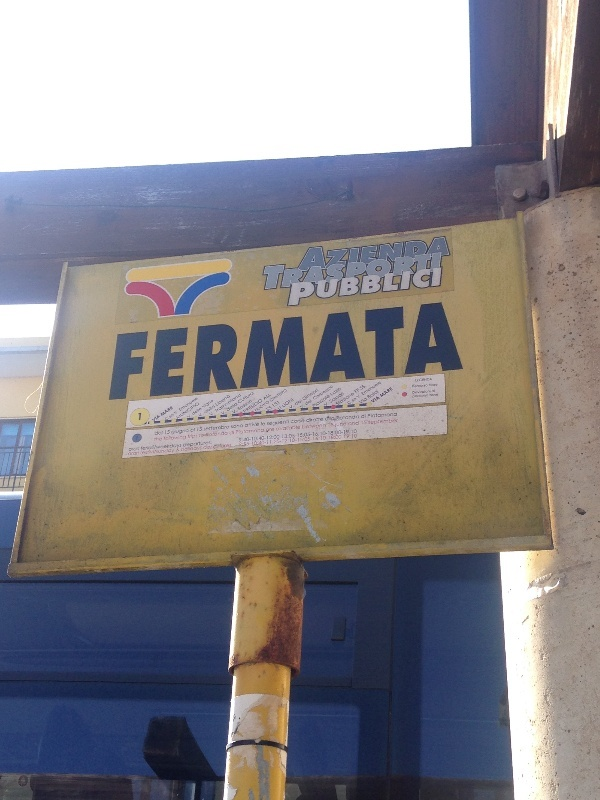text: (129, 305, 144, 402), (145, 305, 160, 402), (161, 305, 176, 402), (177, 305, 192, 402), (193, 305, 208, 402), (209, 305, 224, 402), (225, 305, 240, 402), (241, 305, 256, 402), (257, 305, 272, 402), (273, 305, 288, 402), (289, 305, 304, 402), (305, 305, 320, 402), (321, 305, 336, 402), (337, 305, 352, 402), (353, 305, 368, 402), (369, 305, 384, 402), (385, 305, 400, 402), (401, 305, 416, 402), (417, 305, 432, 402), (433, 305, 448, 402), (449, 305, 464, 402), (117, 305, 128, 402), (305, 266, 320, 309), (321, 266, 336, 309), (337, 266, 352, 309), (353, 266, 368, 309), (369, 266, 384, 309), (385, 266, 400, 309), (401, 266, 416, 309), (417, 266, 432, 309), (290, 266, 304, 309), (177, 381, 192, 420), (193, 381, 208, 420), (209, 381, 224, 420), (225, 381, 240, 420), (241, 381, 256, 420), (257, 381, 272, 420), (273, 381, 288, 420), (289, 381, 304, 420), (305, 381, 320, 420), (321, 381, 336, 420), (337, 381, 352, 420), (353, 381, 368, 420), (369, 381, 384, 420), (385, 381, 400, 420), (273, 254, 288, 291), (289, 254, 304, 291), (305, 254, 320, 291), (321, 254, 336, 291), (337, 254, 352, 291), (353, 254, 368, 291), (369, 254, 384, 291), (385, 254, 400, 291), (401, 254, 416, 291), (417, 254, 432, 291), (321, 238, 336, 272), (337, 238, 352, 272), (353, 238, 368, 272), (369, 238, 384, 272), (385, 238, 400, 272), (401, 238, 416, 272), (417, 238, 432, 272), (433, 238, 448, 272), (161, 413, 176, 443), (177, 413, 192, 443), (193, 413, 208, 443), (209, 413, 224, 443), (225, 413, 240, 443), (241, 413, 256, 443), (257, 413, 272, 443), (273, 413, 288, 443), (289, 413, 304, 443), (305, 413, 320, 443), (321, 413, 336, 443), (337, 413, 352, 443), (353, 413, 368, 443), (369, 413, 384, 443), (433, 266, 443, 309), (129, 429, 144, 457), (145, 429, 160, 457), (161, 429, 176, 457), (177, 429, 192, 457), (193, 429, 208, 457), (209, 429, 224, 457), (225, 429, 240, 457), (241, 429, 256, 457), (257, 429, 272, 457), (273, 429, 288, 457), (289, 429, 304, 457), (305, 429, 320, 457), (321, 429, 336, 457), (337, 429, 352, 457), (385, 413, 398, 443), (417, 377, 432, 401), (310, 238, 320, 272), (433, 254, 442, 291), (265, 254, 272, 291), (171, 381, 176, 420), (155, 413, 160, 443), (353, 429, 358, 457), (433, 377, 438, 401), (412, 377, 416, 401), (449, 238, 451, 272), (138, 413, 144, 420), (136, 436, 144, 441)
